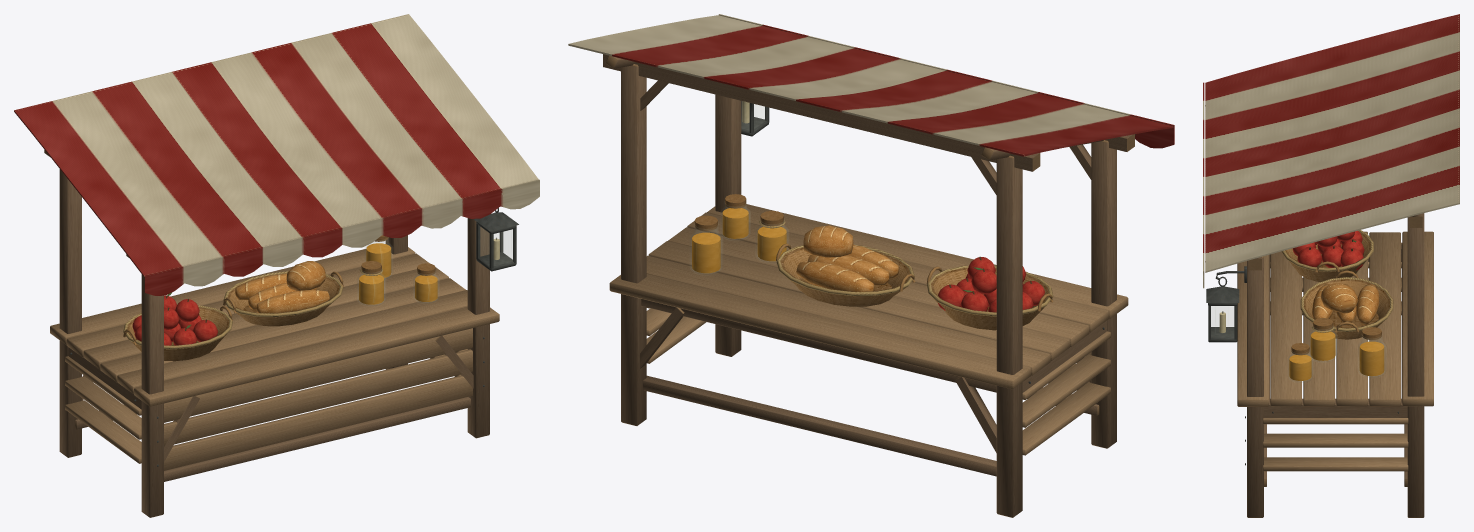
File: market_stall.glb
3 views of the same model, side by side, from view 1: azimuth 30°, elevation 25°; view 2: azimuth 150°, elevation 25°; view 3: azimuth 270°, elevation 25° (orthographic). The views are drawn at different scales.
Visible parts, largest first — view 1: Festival_Market_Stall_Pole; view 2: Festival_Market_Stall_Pole; view 3: Festival_Market_Stall_Pole.
Boxes of the visible parts, x1,y1,x2,y2 form: Festival_Market_Stall_Pole: [14, 14, 539, 517]; Festival_Market_Stall_Pole: [568, 14, 1174, 517]; Festival_Market_Stall_Pole: [1203, 14, 1459, 517].
Bounding box in the file's own units: 3.56 × 2.89 × 2.05.
Materials: 2 (2 with a texture image).
